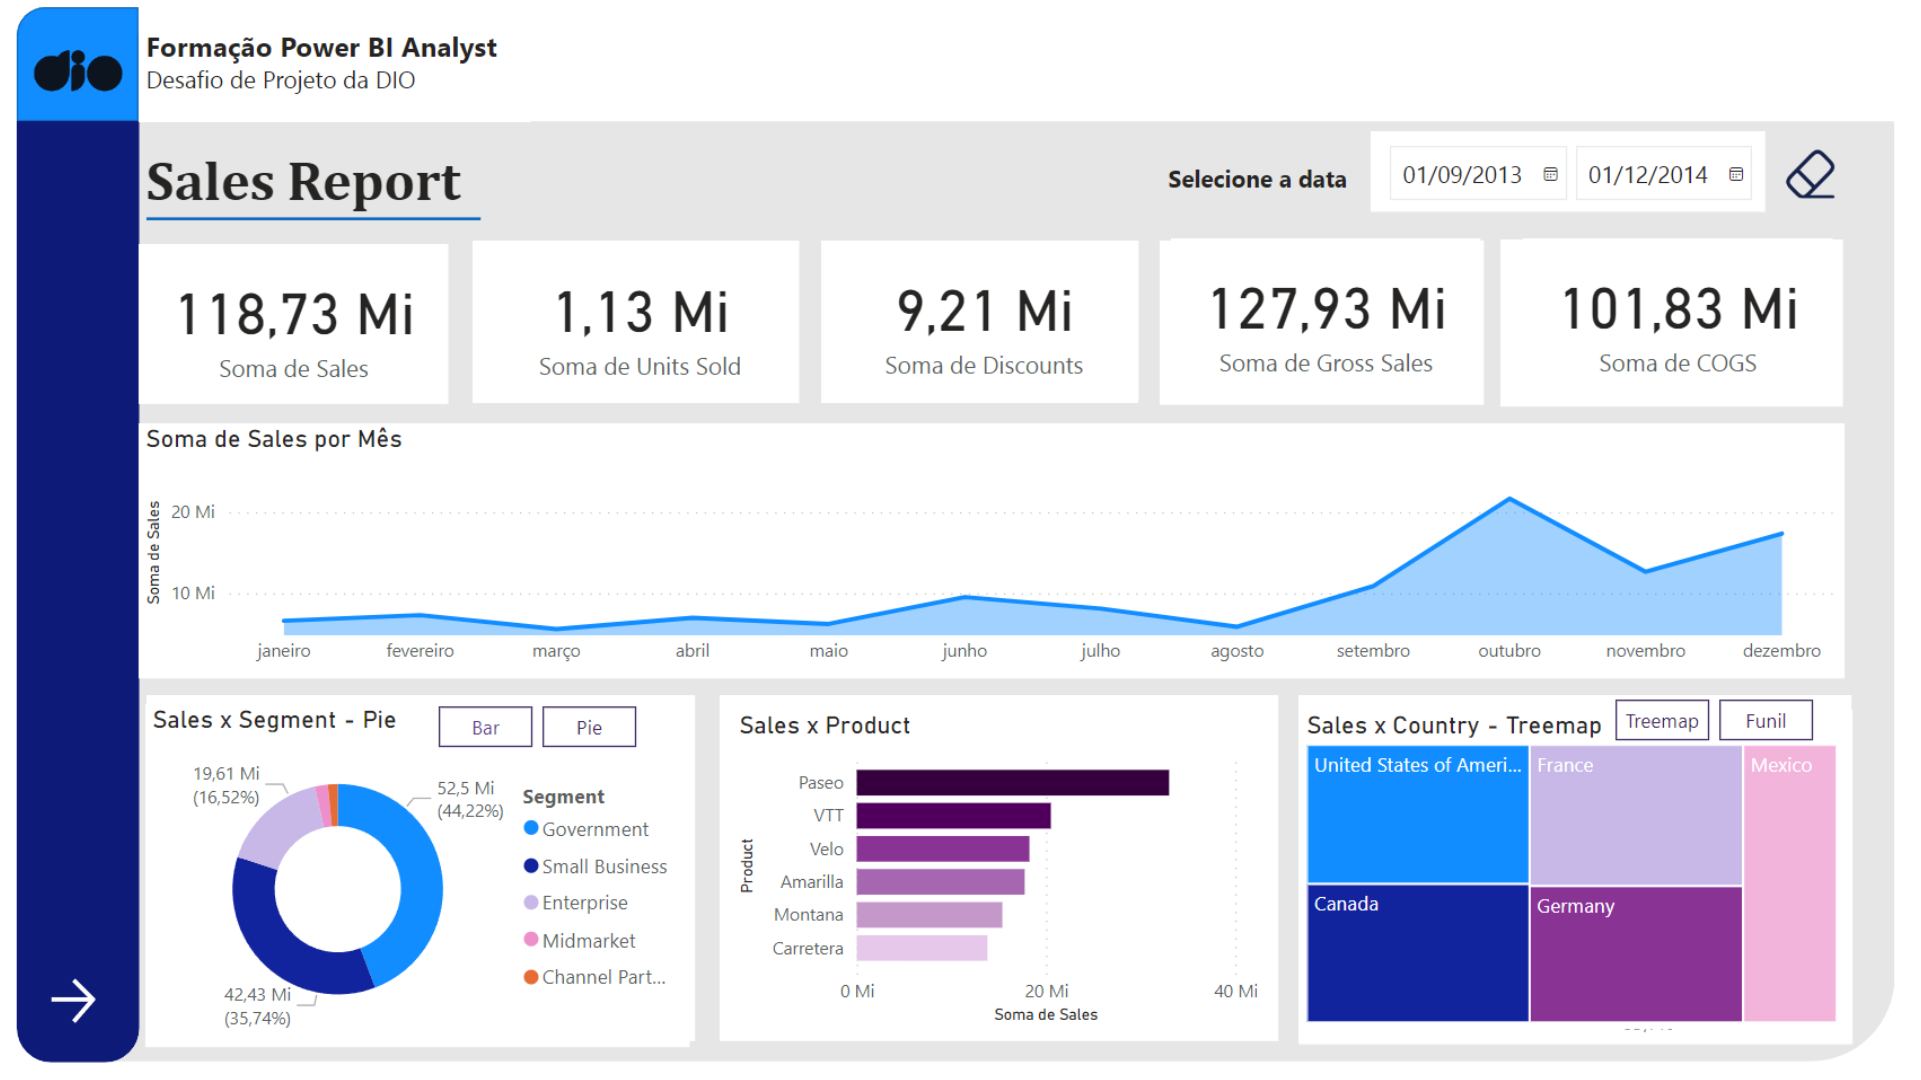

What the dashboard file says about the page in this screenshot:
{"tool":"powerbi","page":{"name":"Página 1","canvas":[1280,720],"ordinal":0},"visuals":[{"type":"shape","box":[0,0,1280.3,719.2],"z":0},{"type":"shape","box":[83.4,161.6,211,109.2],"z":0,"group":"g1"},{"type":"shape","box":[0,0,83.6,719.8],"z":1000},{"type":"slicer","fields":{"Values":["financials.Date"]},"box":[922.9,84.3,268.9,55],"z":1000,"group":"g2"},{"type":"shape","box":[311.2,159,222.7,110.8],"z":1000,"group":"g1"},{"type":"shape","box":[83.3,0,1197,78.2],"z":2000},{"type":"textbox","box":[779.9,100.2,140.6,34.2],"z":2000,"group":"g2"},{"type":"shape","box":[548.8,159,216,110.8],"z":2000,"group":"g1"},{"type":"donutChart","title":"Sales x Segment - Pie","fields":{"Y":["Sum(financials.Sales)"],"Category":["financials.Segment"]},"box":[87.6,475.4,371.4,233.5],"z":2750,"group":"g4"},{"type":"textbox","box":[83.3,8.5,267,69.7],"z":3000},{"type":"actionButton","box":[1191.9,91.6,59.9,45.2],"z":3000,"group":"g2"},{"type":"shape","box":[779.8,159.5,221,112.4],"z":3000,"group":"g1"},{"type":"shape","title":"Botão Pie","box":[358.7,476.8,63.9,27.8],"z":3250,"group":"g4"},{"type":"image","title":"clean","box":[1191.9,91.8,59.5,42.5],"z":3500,"group":"g2"},{"type":"shape","title":"Botão Bar","box":[287.8,476.8,63.9,27.8],"z":3500,"group":"g4"},{"type":"shape","box":[0,0,83,77.8],"z":4000},{"type":"shape","box":[1012,158.5,233.5,114],"z":4000,"group":"g1"},{"type":"image","box":[6.9,8.2,69.9,69.9],"z":5000},{"type":"group","id":"g1","title":"Cartões","box":[83.4,158.5,1162.1,114],"z":6000},{"type":"textbox","box":[83.3,91.8,232.9,85],"z":7000},{"type":"shape","box":[88.4,130.9,227.8,27.2],"z":8000},{"type":"shape","box":[83.3,284,1163,173.4],"z":9000},{"type":"shape","box":[88.4,469.3,374.1,236.3],"z":10000},{"type":"shape","box":[479.5,469.3,380.9,236.3],"z":11000},{"type":"shape","box":[874,469.3,377.5,238],"z":12000},{"type":"card","fields":{"Values":["Sum(financials.Sales)"]},"box":[83.1,161.4,211.5,108.8],"z":13000},{"type":"card","fields":{"Values":["Sum(financials.Units Sold)"]},"box":[319,160.1,211.5,108.8],"z":14000},{"type":"card","fields":{"Values":["Sum(financials.Discounts)"]},"box":[553.8,158.9,211.5,108.8],"z":15000},{"type":"card","fields":{"Values":["Sum(financials.Gross Sales)"]},"box":[787.2,157.7,211.5,108.8],"z":16000},{"type":"card","fields":{"Values":["Sum(financials.COGS)"]},"box":[1026.8,157.7,211.5,108.8],"z":17000},{"type":"areaChart","fields":{"Category":["financials.Date.Variation.Hierarquia de datas.Mês"],"Y":["Sum(financials.Sales)"]},"box":[83.1,283.6,1162.5,173.6],"z":18000},{"type":"clusteredBarChart","title":"Sales x Product","fields":{"Y":["Sum(financials.Sales)"],"Category":["financials.Product"]},"box":[487.7,479.2,363.1,218.8],"z":19000},{"type":"group","id":"g2","title":"Filtro por data","box":[779.9,84.3,471.9,55],"z":20000},{"type":"group","id":"g3","title":"Sales x Country","box":[874.4,472.3,376.7,235.2],"z":21000},{"type":"funnel","title":"Sales x Country - Funil","fields":{"Category":["financials.Country"],"Y":["Sum(financials.Sales)"]},"box":[874.4,479.5,376.7,228],"z":21000,"group":"g3"},{"type":"group","id":"g4","title":"Sales x ","box":[87.6,475.4,372.5,233.5],"z":22000},{"type":"actionButton","box":[18.1,657.5,47.3,40.3],"z":23000},{"type":"treemap","title":"Sales x Country - Treemap","fields":{"Values":["Sum(financials.Sales)"],"Group":["financials.Country"]},"box":[874.4,479.5,371.2,218.2],"z":24000,"group":"g3"},{"type":"shape","title":"Botão Funil","box":[1160.5,472.3,63.9,27.8],"z":24250,"group":"g3"},{"type":"shape","title":"Botão Treemap","box":[1089.6,472.3,63.9,27.8],"z":24500,"group":"g3"}]}

Visuals, with their boxes in screenshot pixels (x1, y1, x2, y2), scaled from the page's 1280x720 canvas onto the 1921x1080 screenshot:
shape: <box>0,0,1920,1079</box>
shape: <box>125,242,442,406</box>
shape: <box>0,0,125,1079</box>
slicer - financials.Date: <box>1385,126,1789,209</box>
shape: <box>467,238,801,405</box>
shape: <box>125,0,1920,117</box>
textbox: <box>1170,150,1381,202</box>
shape: <box>824,238,1148,405</box>
"Sales x Segment - Pie" donutChart: <box>131,713,689,1063</box>
textbox: <box>125,13,526,117</box>
actionButton: <box>1789,137,1879,205</box>
shape: <box>1170,239,1502,408</box>
"Botão Pie" shape: <box>538,715,634,757</box>
"clean" image: <box>1789,138,1878,201</box>
"Botão Bar" shape: <box>432,715,528,757</box>
shape: <box>0,0,125,117</box>
shape: <box>1519,238,1869,409</box>
image: <box>10,12,115,117</box>
"Cartões" group: <box>125,238,1869,409</box>
textbox: <box>125,138,475,265</box>
shape: <box>133,196,475,237</box>
shape: <box>125,426,1870,686</box>
shape: <box>133,704,694,1058</box>
shape: <box>720,704,1291,1058</box>
shape: <box>1312,704,1878,1061</box>
card - Sum(financials.Sales): <box>125,242,442,405</box>
card - Sum(financials.Units Sold): <box>479,240,796,403</box>
card - Sum(financials.Discounts): <box>831,238,1149,402</box>
card - Sum(financials.Gross Sales): <box>1181,237,1499,400</box>
card - Sum(financials.COGS): <box>1541,237,1858,400</box>
areaChart - financials.Date.Variation.Hierarquia de datas.Mês x Sum(financials.Sales): <box>125,425,1869,686</box>
"Sales x Product" clusteredBarChart: <box>732,719,1277,1047</box>
"Filtro por data" group: <box>1170,126,1879,209</box>
"Sales x Country" group: <box>1312,708,1878,1061</box>
"Sales x Country - Funil" funnel: <box>1312,719,1878,1061</box>
"Sales x " group: <box>131,713,691,1063</box>
actionButton: <box>27,986,98,1047</box>
"Sales x Country - Treemap" treemap: <box>1312,719,1869,1047</box>
"Botão Funil" shape: <box>1742,708,1838,750</box>
"Botão Treemap" shape: <box>1635,708,1731,750</box>
